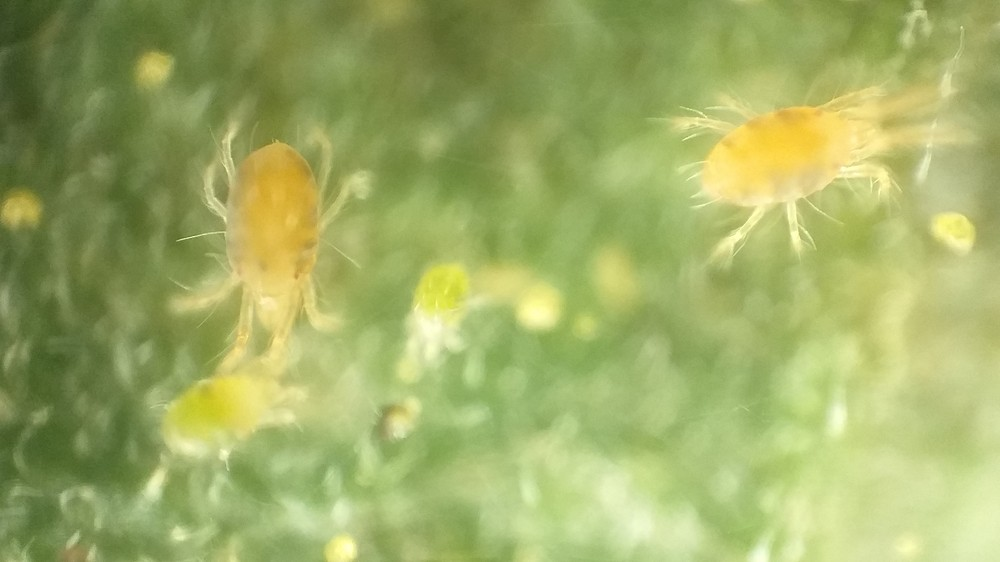Aracnido Rojo: (670, 70, 981, 251), (172, 114, 381, 359)
